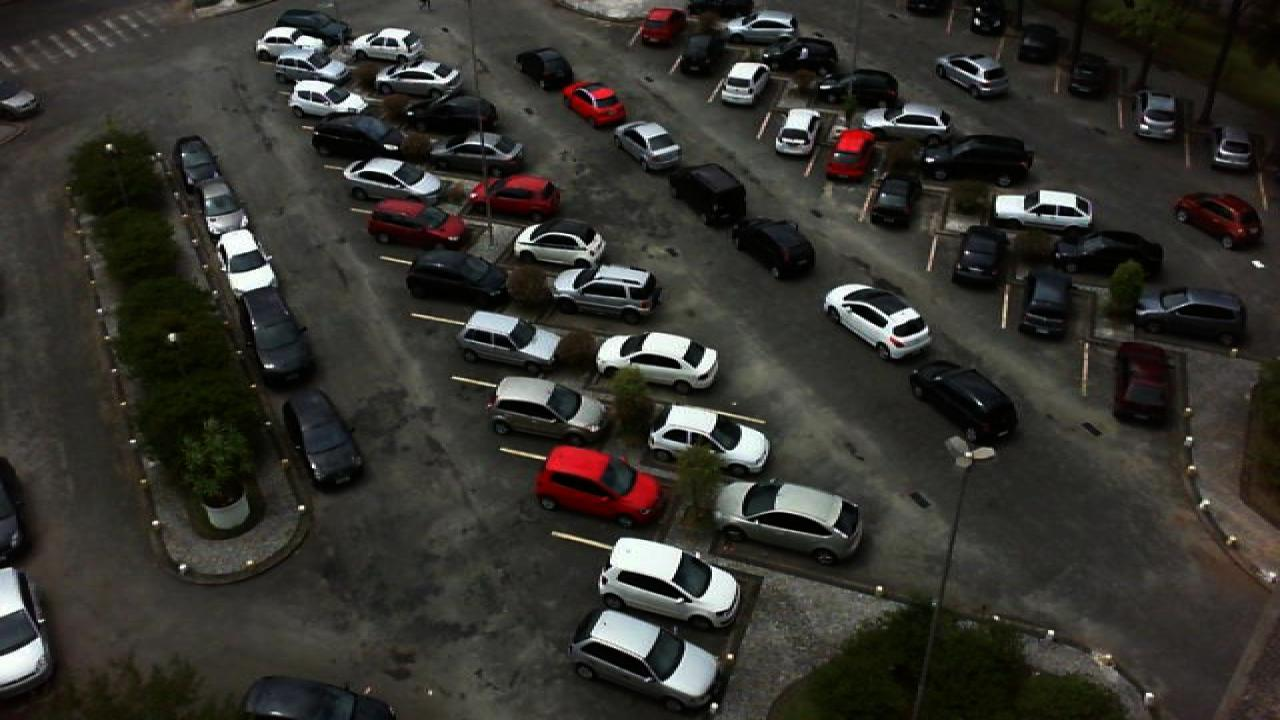Car: (570, 606, 730, 712), (596, 536, 742, 634), (712, 478, 866, 564), (534, 444, 668, 528), (910, 360, 1022, 446), (644, 404, 772, 478), (484, 375, 612, 446), (822, 282, 934, 360), (590, 330, 724, 393), (282, 388, 366, 488), (454, 309, 568, 379), (0, 564, 56, 706), (240, 286, 318, 384), (238, 675, 402, 720), (1136, 288, 1250, 349), (554, 262, 664, 318), (402, 248, 512, 303), (924, 133, 1036, 187), (728, 217, 818, 281), (510, 216, 610, 272), (1052, 229, 1164, 279), (1172, 192, 1264, 251), (1112, 342, 1174, 426), (672, 162, 750, 227), (364, 198, 468, 246), (214, 227, 282, 299), (402, 92, 498, 142), (342, 158, 444, 202), (992, 189, 1098, 231), (308, 114, 408, 158), (428, 132, 528, 176), (1020, 267, 1076, 341), (472, 172, 564, 217), (950, 225, 1014, 289), (612, 119, 684, 171), (370, 59, 462, 99), (810, 66, 898, 107), (936, 53, 1010, 100), (862, 105, 952, 142), (274, 45, 352, 87), (824, 126, 880, 184), (196, 179, 250, 237), (290, 79, 370, 118), (562, 81, 628, 128), (350, 27, 428, 64), (514, 46, 574, 94), (758, 37, 840, 72), (772, 107, 824, 160), (174, 135, 224, 190), (1132, 87, 1182, 140), (726, 10, 798, 46), (678, 28, 728, 78), (716, 61, 770, 106), (1210, 125, 1258, 175), (1066, 51, 1112, 99), (256, 25, 314, 62), (282, 9, 350, 39), (1016, 22, 1062, 66), (640, 8, 686, 46), (970, 0, 1010, 37)
